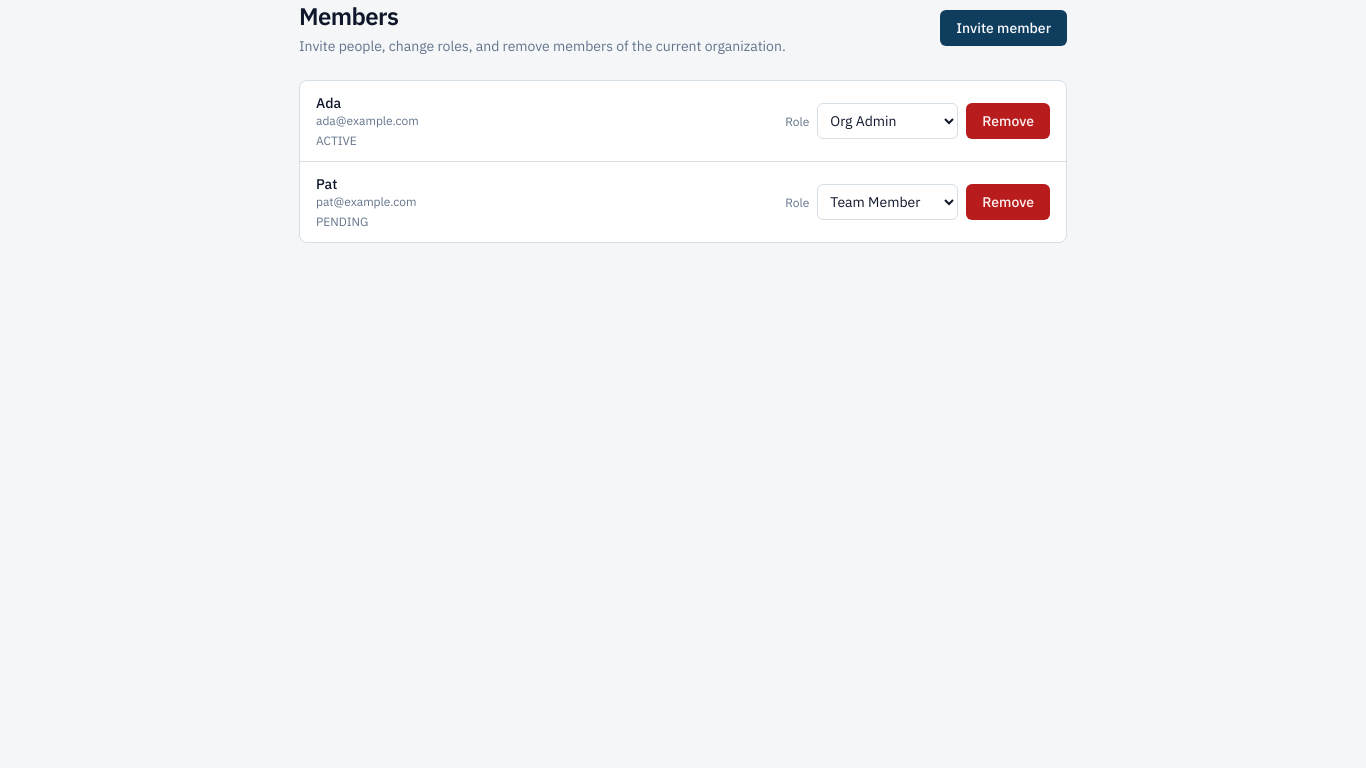
Scenario: Members settings › removes a member after confirmation
The image size is (1366, 768).
Check: the list item with test id "member-row-mem_pending" is shown, box x1=300 y1=162 x2=1066 y2=242
Click the button "Remove" in the row of "pat@example.com".
click(1008, 202)  # box x1=966 y1=184 x2=1050 y2=220
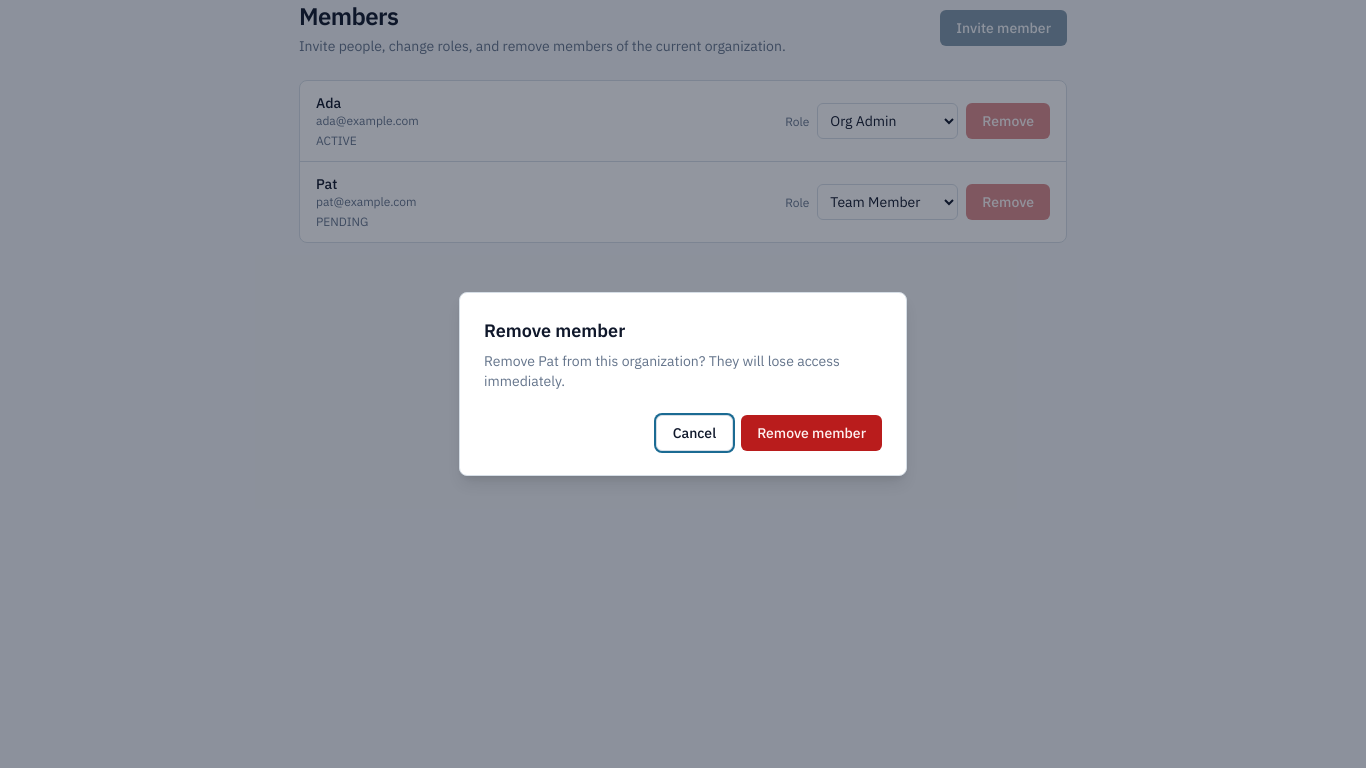
Check: the heading "Remove member" is shown, box x1=484 y1=319 x2=625 y2=342
Click the button "Remove member".
click(812, 433)  # box x1=741 y1=415 x2=882 y2=451
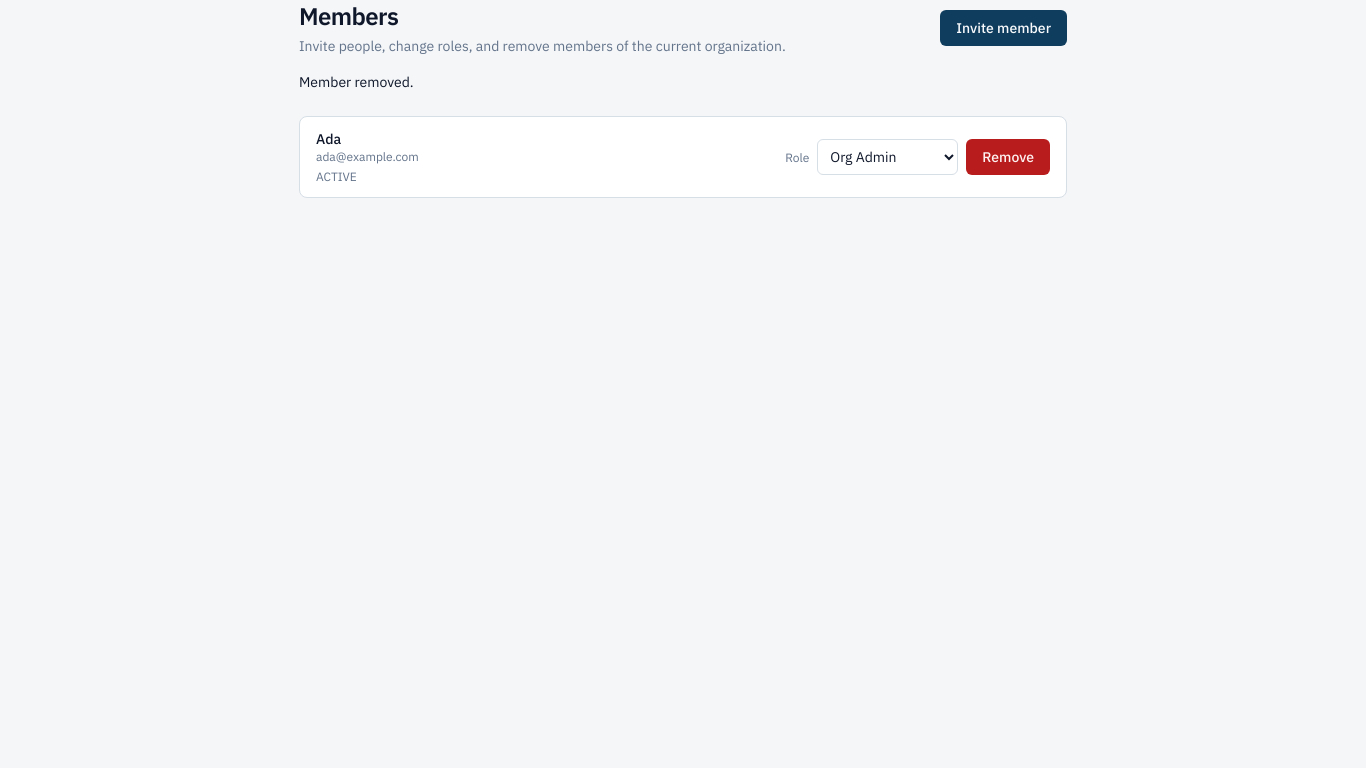
Check: the list item with test id "member-row-mem_pending" is gone
